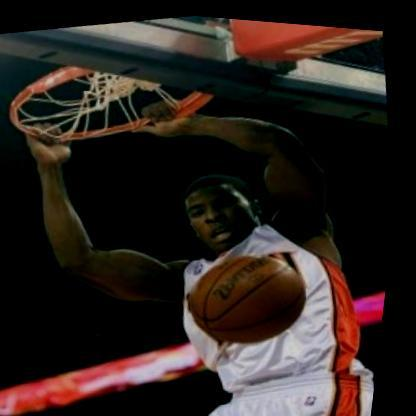basketball: (176, 231, 328, 357)
